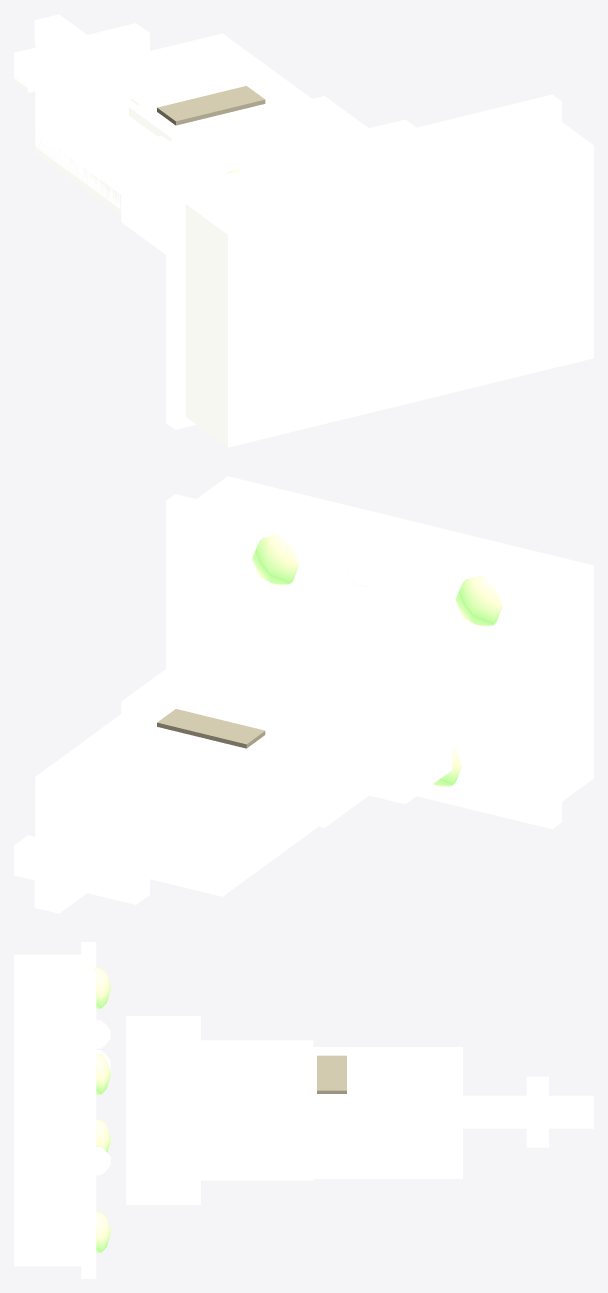
The model's file is tombstone.glb.
3 renders of one model, top to bottom at view 1: azimuth 30°, elevation 25°; view 2: azimuth 150°, elevation 25°; view 3: azimuth 270°, elevation 25°, orthographic. The views are drawn at different scales.
Visible parts, largest first — view 1: base, stone_main, base_top, stone_lower, nameplate, cross_h, plinth, nameplate_text, cross_v, stone_shadow; view 2: base_top, stone_main, plinth, stone_lower, base, nameplate, cross_h, cross_v, nameplate_text, moss_-0.3_0.22, moss_0.2_0.2, stone_shadow (+3 smaller); view 3: base, stone_main, stone_lower, plinth, base_top, cross_v, nameplate, stone_shadow, cross_h, nameplate_text, moss_-0.3_0.22, moss_0.3_-0.22 (+1 smaller).
Part boxes in pixels (x1,y1,x2,y2): base: (185,114,593,447); stone_main: (35,33,311,209); base_top: (166,94,561,429); stone_lower: (121,96,368,254); nameplate: (129,77,293,142); cross_h: (14,23,149,88); plinth: (181,119,415,184); nameplate_text: (157,86,265,125); cross_v: (34,14,118,68); stone_shadow: (35,134,121,215); base_top: (166,494,561,829); stone_main: (35,708,316,890); plinth: (181,587,452,804); stone_lower: (121,650,395,827); base: (197,476,593,801); nameplate: (129,700,293,769); cross_h: (14,835,149,900); cross_v: (34,818,141,909); nameplate_text: (157,709,265,748); moss_-0.3_0.22: (455,575,502,626); moss_0.2_0.2: (252,534,298,585); stone_shadow: (36,816,318,896); base: (14,954,81,1266); stone_main: (313,1047,462,1173); stone_lower: (201,1040,313,1180); plinth: (126,1016,200,1204); base_top: (81,942,96,1278); cross_v: (463,1095,593,1125); nameplate: (298,1053,365,1106); stone_shadow: (313,1162,462,1178); cross_h: (526,1076,548,1144); nameplate_text: (317,1055,346,1093); moss_-0.3_0.22: (93,968,111,1008); moss_0.3_-0.22: (96,1212,111,1252).
Size of the model in its own units: 0.95 by 0.56 by 1.55.
